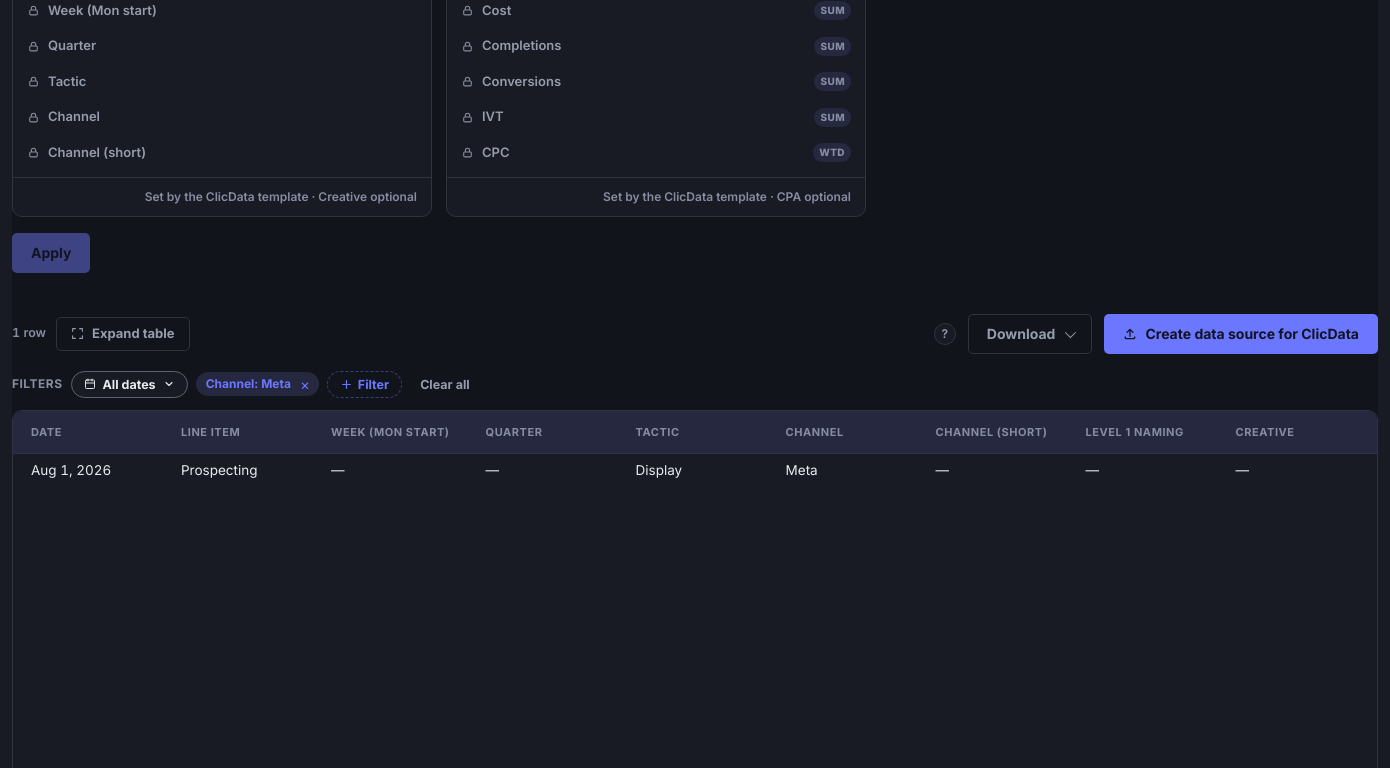
Test case: DashboardsTab › should say above the table which values are narrowing the preview, and clear one on demand
(page scrolled)
Expected: the button "Channel: Meta" is shown, [206, 375, 291, 393]
Click the button named "Clear the Channel filter". click: (305, 384)
box: [295, 377, 315, 392]
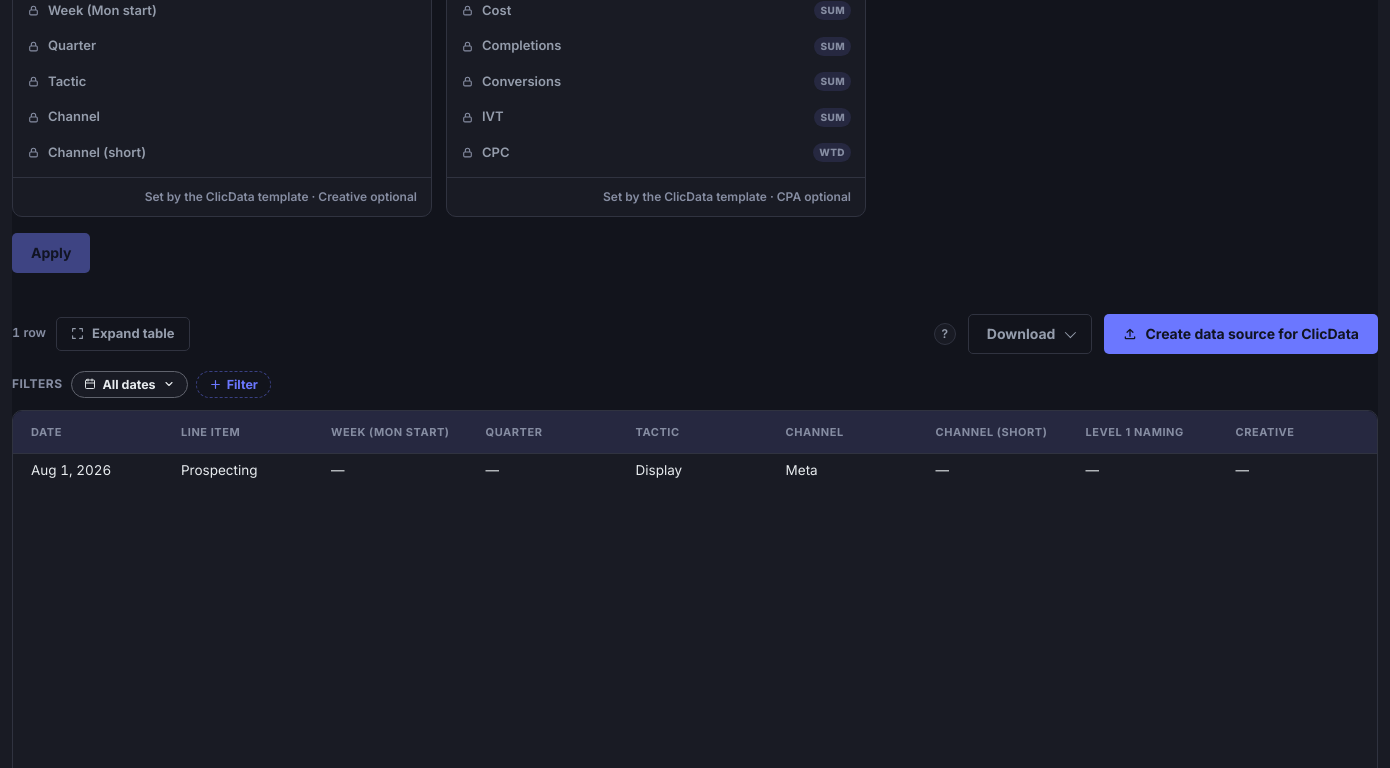
Expected: the button "Channel: Meta" is gone
